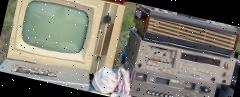electronic: (3, 0, 127, 80)
